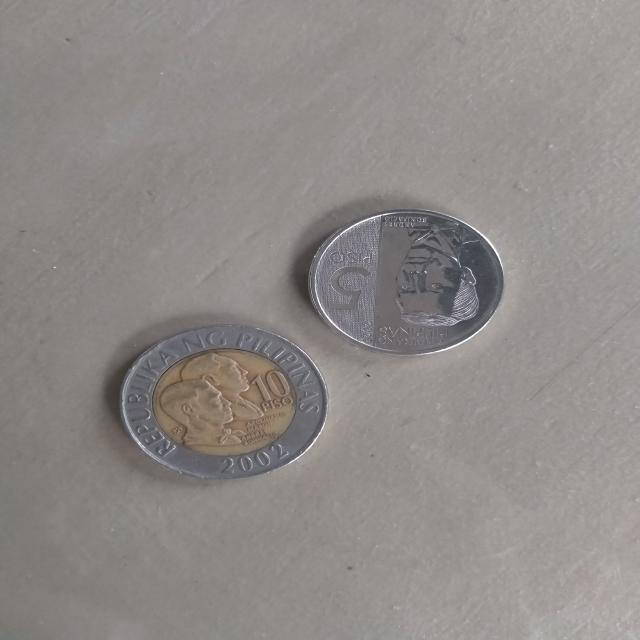10_Old_Front: (120, 327, 321, 481)
5_New_Front: (310, 215, 505, 354)
